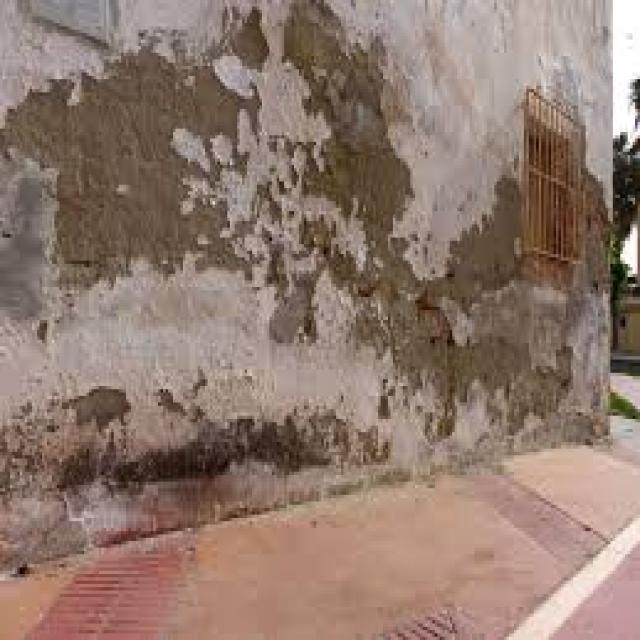stain_mould: (1, 0, 577, 458), (0, 373, 390, 539)
